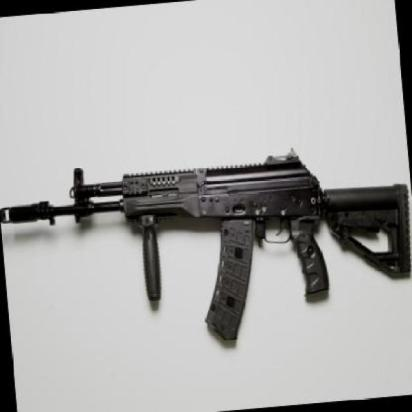Gun: (0, 119, 412, 376)
